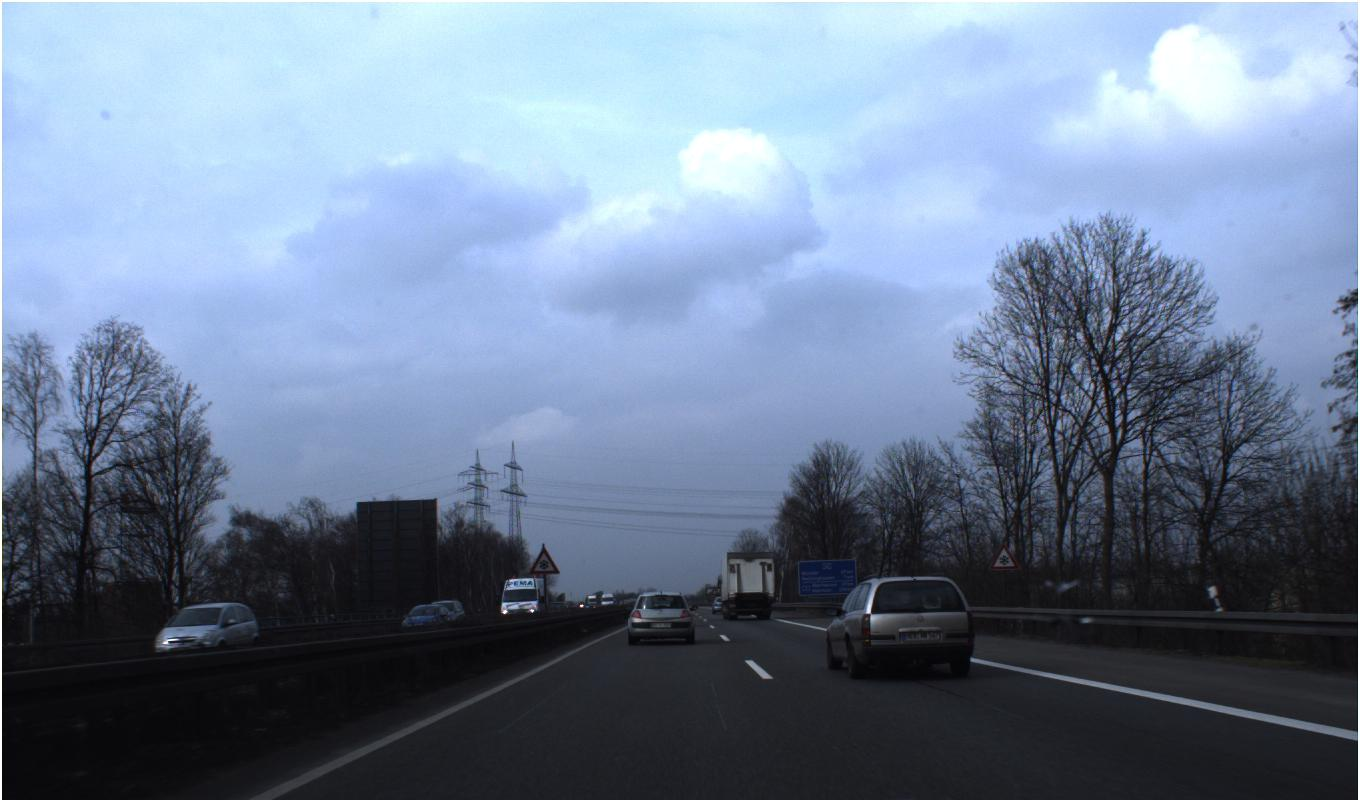danger: (527, 546, 561, 575), (988, 542, 1021, 571)
